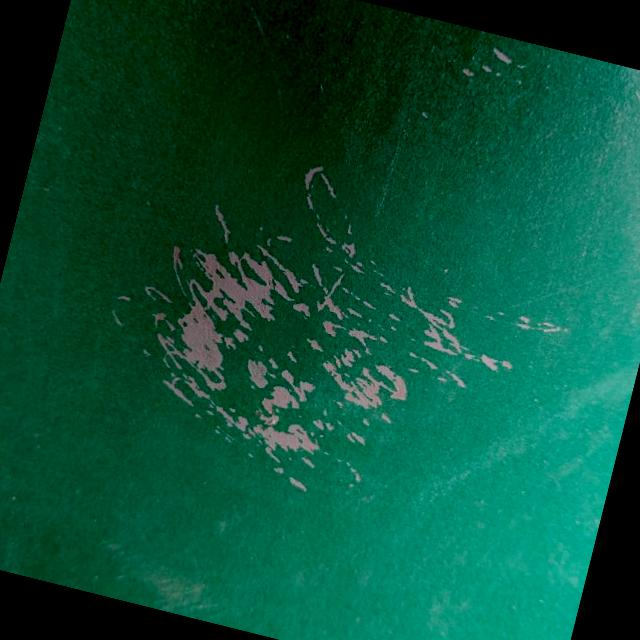paint-off: (82, 112, 570, 572)
